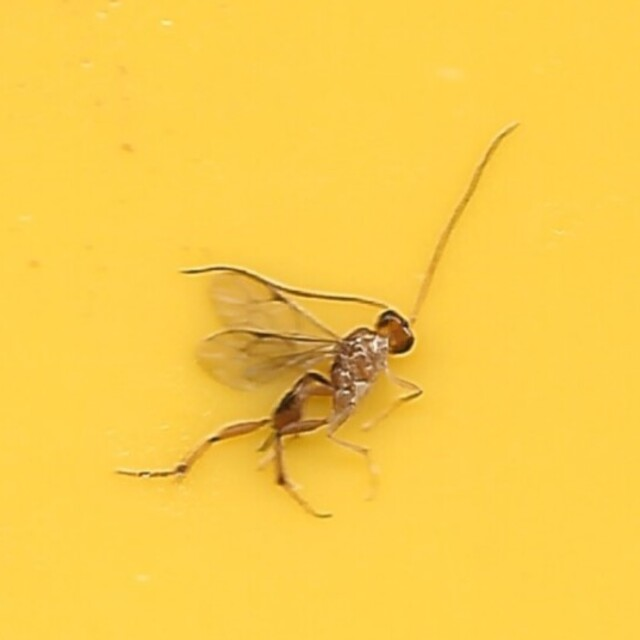Hymenoptera: (119, 120, 521, 520)
